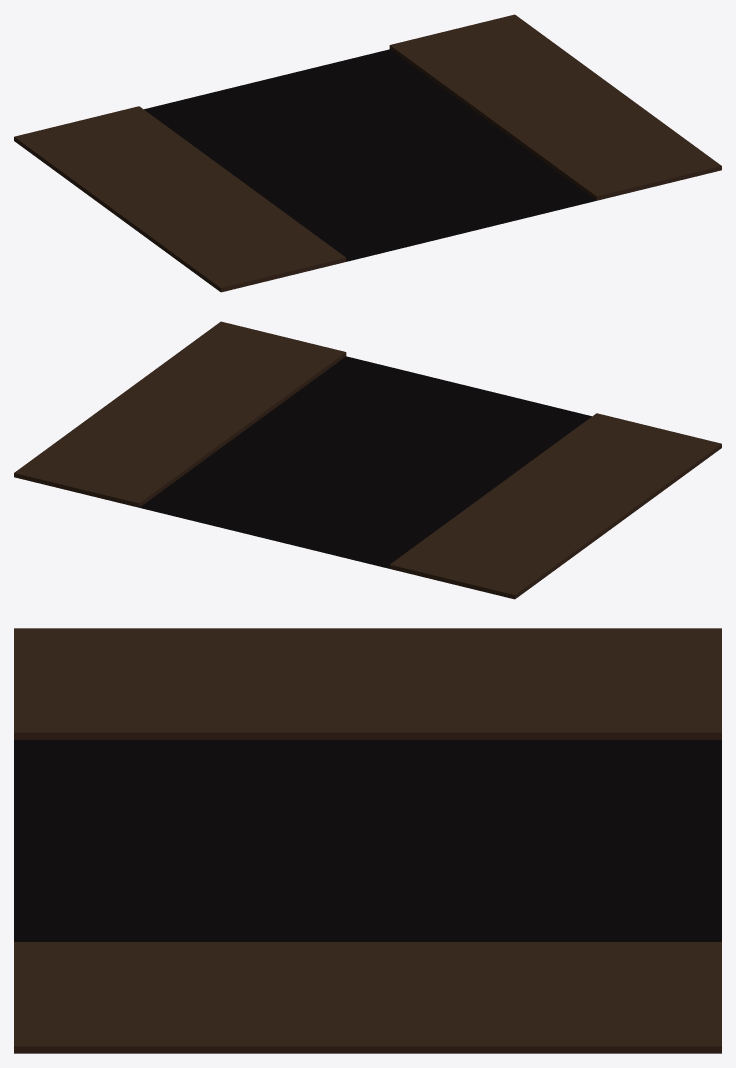
File: Road_tile.FBX
The picture shows the model from 3 angles, top to bottom: view 1: azimuth 30°, elevation 25°; view 2: azimuth 150°, elevation 25°; view 3: azimuth 270°, elevation 25°; orthographic projection. The views are drawn at different scales.
Visible parts, largest first — view 1: Road_module_01; view 2: Road_module_01; view 3: Road_module_01.
Boxes of the visible parts, x1,y1,x2,y2 form: Road_module_01: [14, 14, 721, 292]; Road_module_01: [14, 321, 721, 599]; Road_module_01: [14, 628, 721, 1053].
Bounding box in the file's own units: 1900 × 1360 × 15.5.
